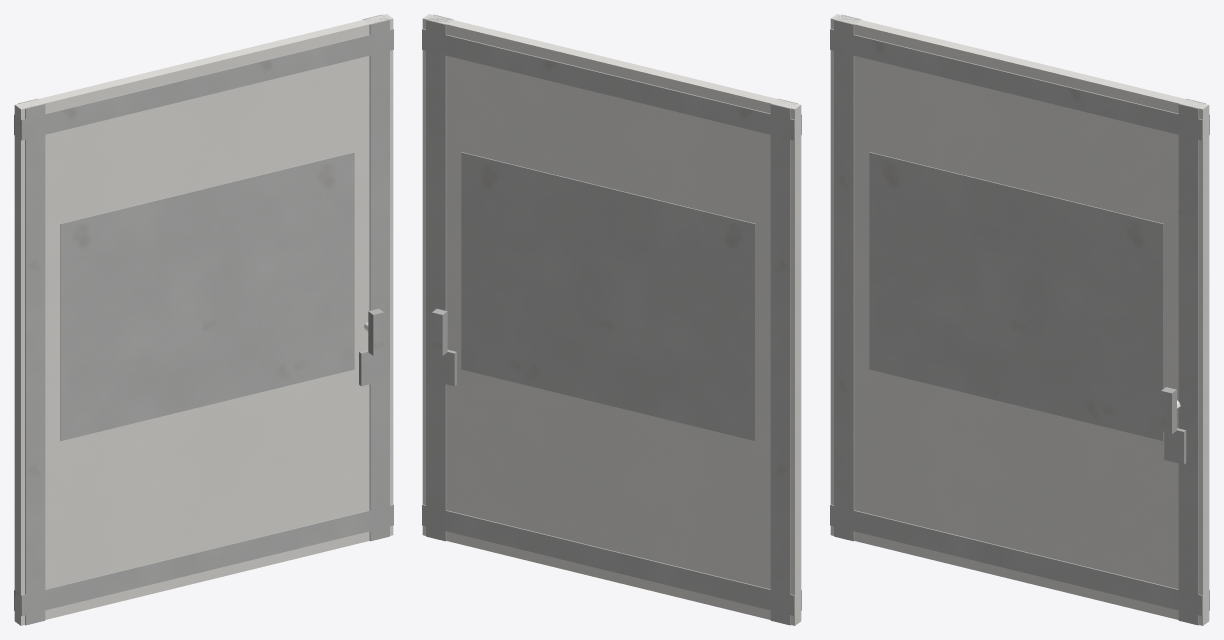
Rendered from doorleaf.gltf.
3 renders of one model, left to right at view 1: azimuth 30°, elevation 25°; view 2: azimuth 150°, elevation 25°; view 3: azimuth 330°, elevation 25°, orthographic.
Visible parts, largest first — view 1: jx_doorleaf; view 2: jx_doorleaf; view 3: jx_doorleaf.
Part boxes in pixels (x1=…): jx_doorleaf: x1=14, y1=14, x2=393, y2=625; jx_doorleaf: x1=422, y1=14, x2=801, y2=625; jx_doorleaf: x1=830, y1=14, x2=1209, y2=625.
Size of the model in its own units: 1.9 by 2.52 by 0.25.
Materials: 2 (2 with a texture image).
